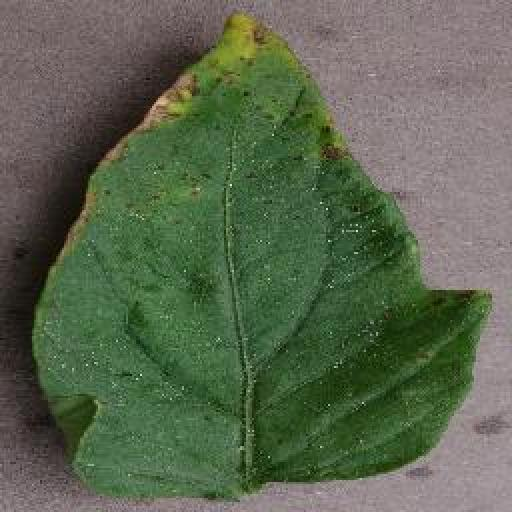Bacterial Spot: (34, 5, 498, 507)
